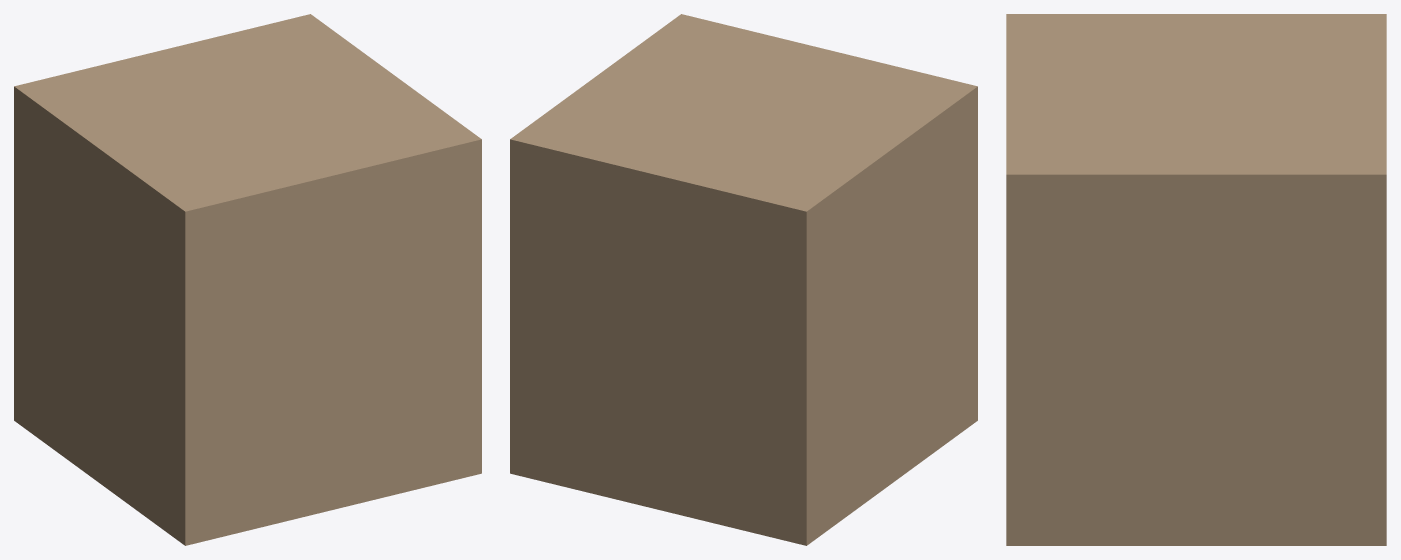
File: lift.glb
The picture shows the model from 3 angles, left to right: view 1: azimuth 30°, elevation 25°; view 2: azimuth 150°, elevation 25°; view 3: azimuth 270°, elevation 25°; orthographic projection. The views are drawn at different scales.
Parts seen in each view (by area): view 1: Mesh_Mesh_head_geo.001_lambert2SG.001; view 2: Mesh_Mesh_head_geo.001_lambert2SG.001; view 3: Mesh_Mesh_head_geo.001_lambert2SG.001.
Boxes of the visible parts, x1,y1,x2,y2 form: Mesh_Mesh_head_geo.001_lambert2SG.001: (14, 14, 481, 545); Mesh_Mesh_head_geo.001_lambert2SG.001: (510, 14, 977, 545); Mesh_Mesh_head_geo.001_lambert2SG.001: (1006, 14, 1386, 545).
Bounding box in the file's own units: 65 × 70 × 65.
